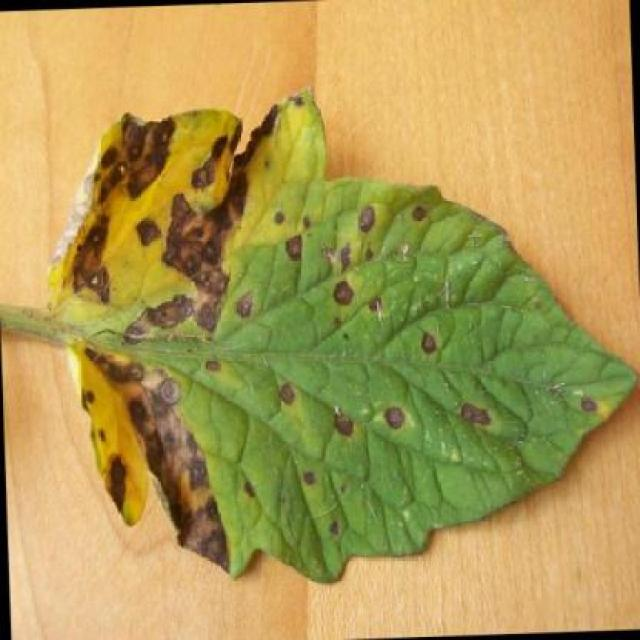Septoria leaf spot: (34, 63, 640, 622)
